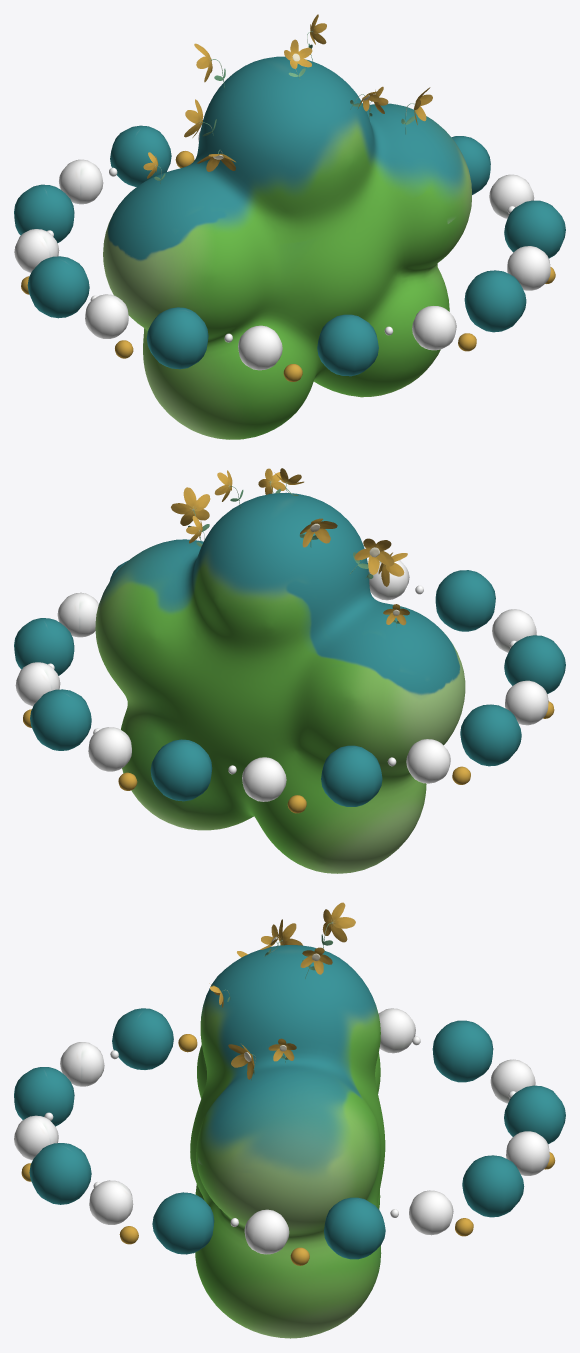
Rendered from planetJ.gltf.
The picture shows the model from 3 angles, top to bottom: view 1: azimuth 30°, elevation 25°; view 2: azimuth 150°, elevation 25°; view 3: azimuth 270°, elevation 25°; orthographic projection.
Parts seen in each view (by area): view 1: _ZBrush_defualt_group, planetJ; view 2: _ZBrush_defualt_group, planetJ; view 3: _ZBrush_defualt_group, planetJ.
Boxes of the visible parts, box(x1,y1,x2,y2) form: _ZBrush_defualt_group: box(103, 14, 471, 439); planetJ: box(14, 125, 565, 381); _ZBrush_defualt_group: box(95, 468, 465, 873); planetJ: box(14, 556, 565, 813); _ZBrush_defualt_group: box(190, 902, 385, 1338); planetJ: box(14, 1008, 565, 1265).
Bounding box in the file's own units: 4.77 × 3.63 × 4.77.
Materials: 1 (1 with a texture image).
